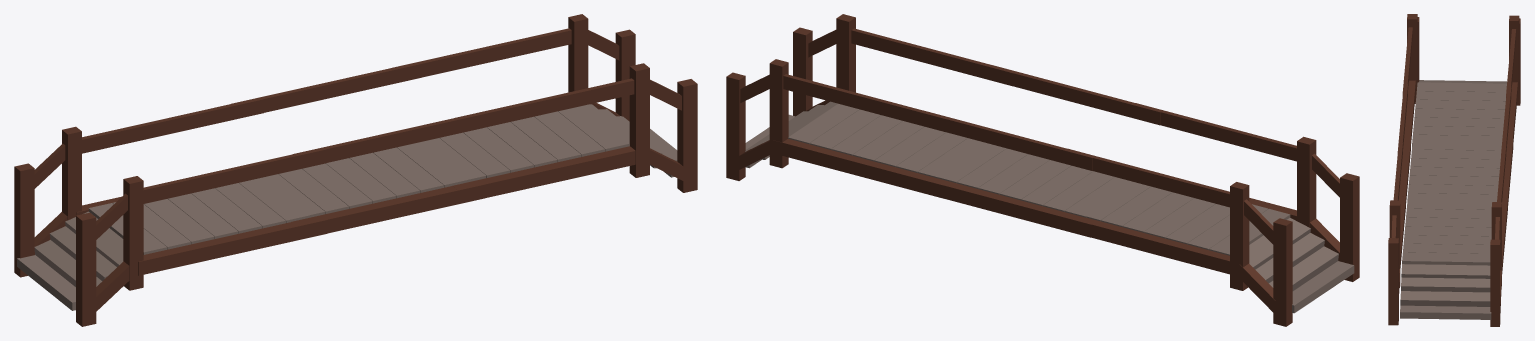
File: bridge.gltf
The picture shows the model from 3 angles, left to right: view 1: azimuth 30°, elevation 25°; view 2: azimuth 150°, elevation 25°; view 3: azimuth 270°, elevation 25°; orthographic projection. The views are drawn at different scales.
Parts seen in each view (by area): view 1: node-0.026; view 2: node-0.026; view 3: node-0.026.
Part boxes in pixels (<box>): node-0.026: <box>14,14,697,326</box>; node-0.026: <box>726,14,1359,326</box>; node-0.026: <box>1388,14,1520,326</box>.
Size of the model in its own units: 1.13 by 0.2337 by 0.2749.
